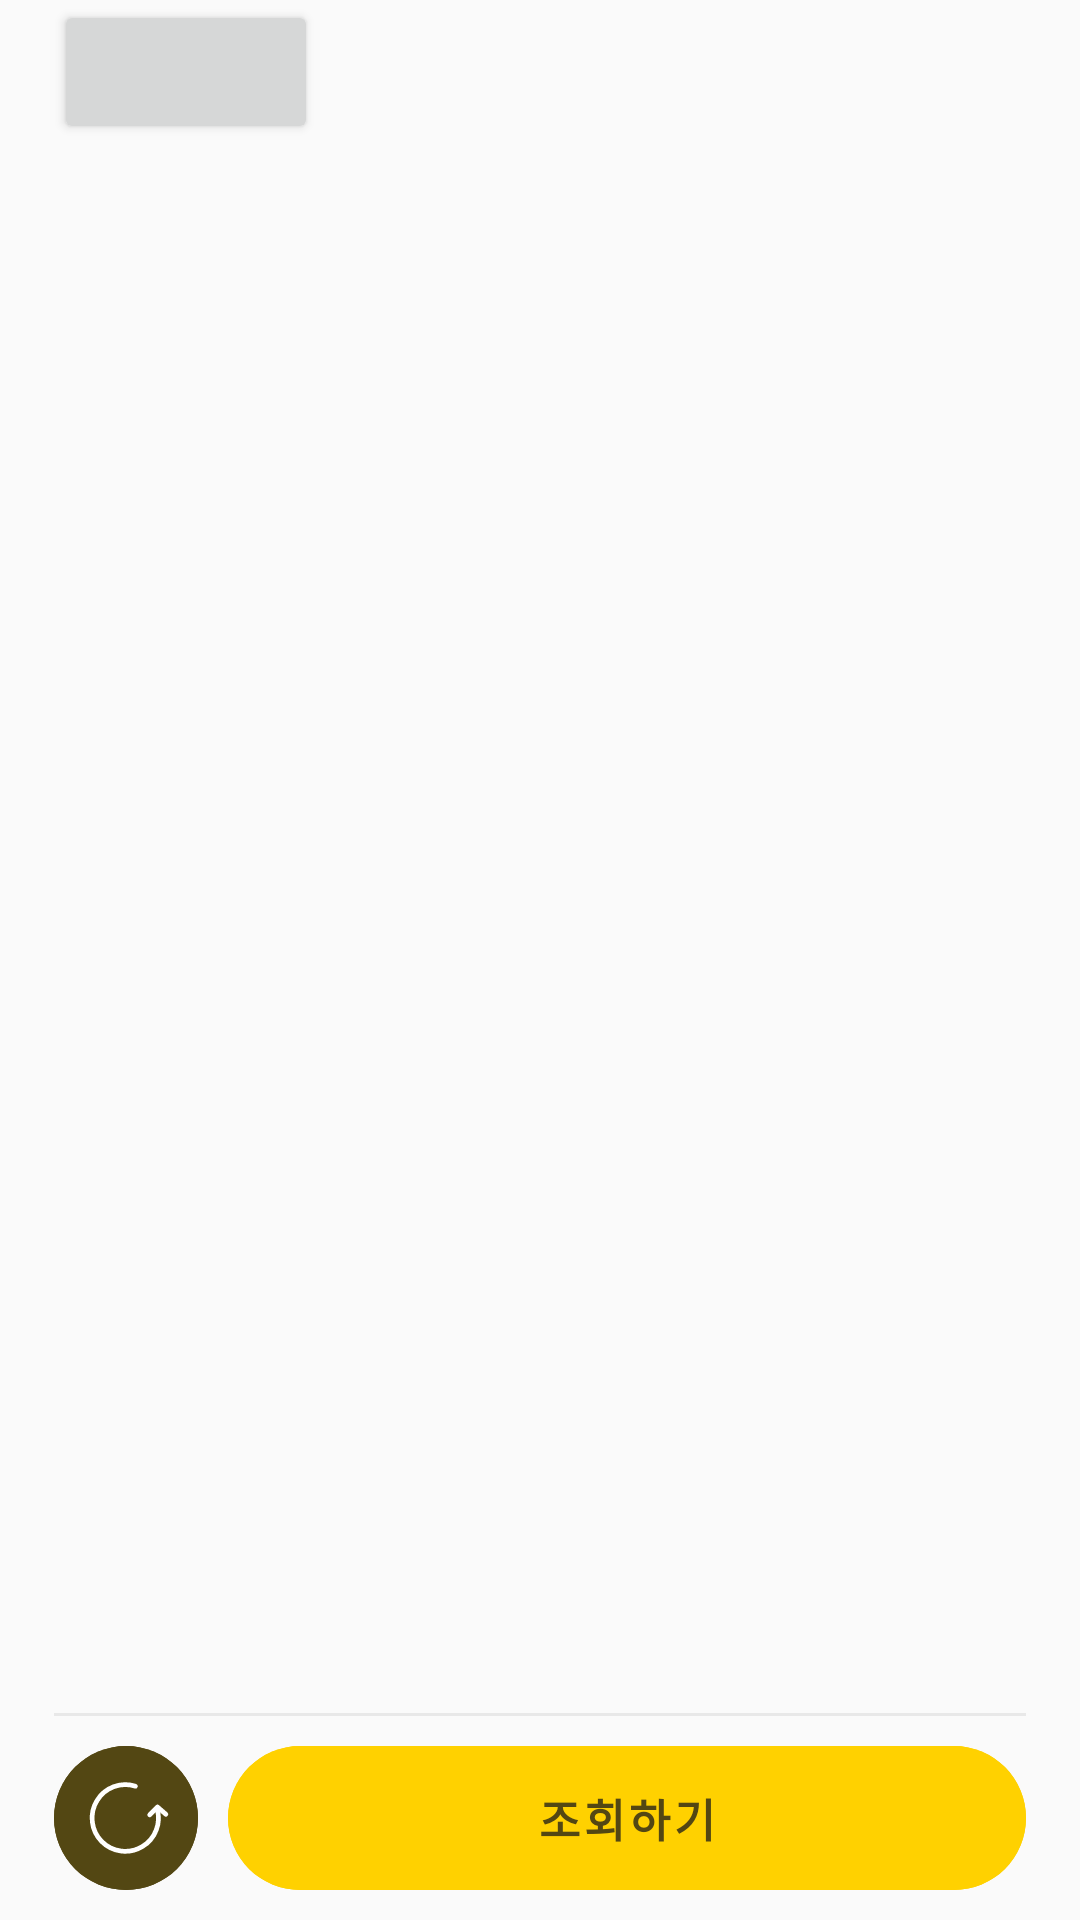

Icons on this 1080px x 1920px Android screen, each with the point to tap as (x,y):
refresh update: (126,1818)
